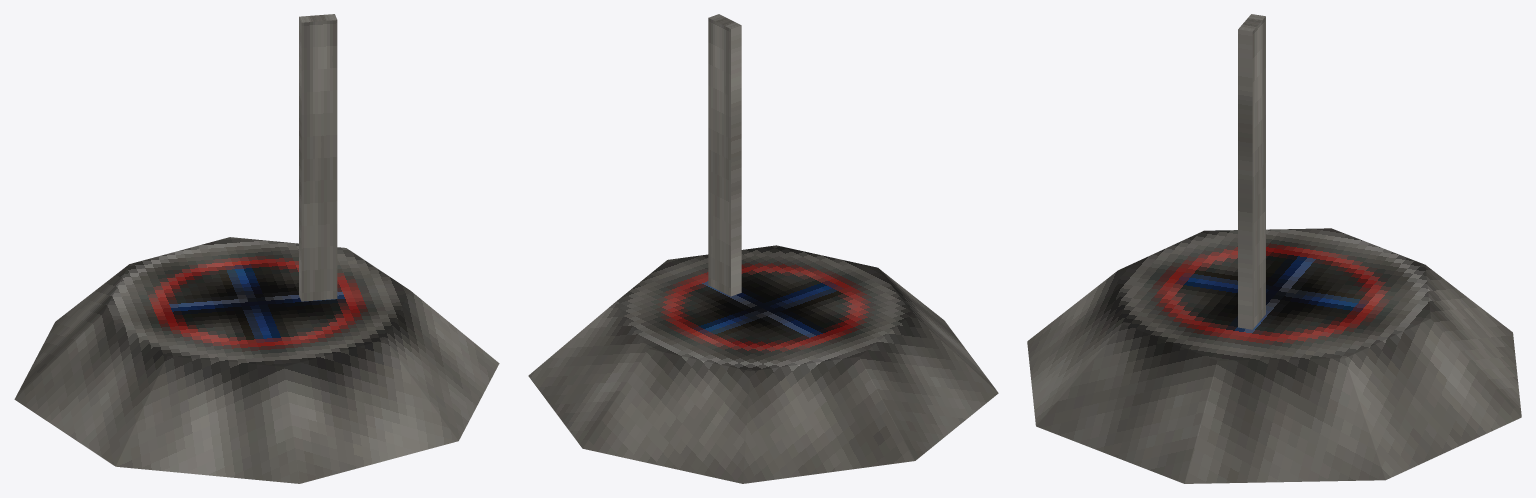
File: RocketPad02.glb
3 views of the same model, side by side, from view 1: azimuth 30°, elevation 25°; view 2: azimuth 150°, elevation 25°; view 3: azimuth 270°, elevation 25° (orthographic). The views are drawn at different scales.
Parts seen in each view (by area): view 1: RocketPad02; view 2: RocketPad02; view 3: RocketPad02.
Part boxes in pixels (box(x1,y1,x2,y2)): RocketPad02: box(14, 14, 499, 483); RocketPad02: box(528, 14, 998, 483); RocketPad02: box(1027, 14, 1521, 483).
Size of the model in its own units: 211 by 180 by 211.
Materials: 1 (1 with a texture image).
